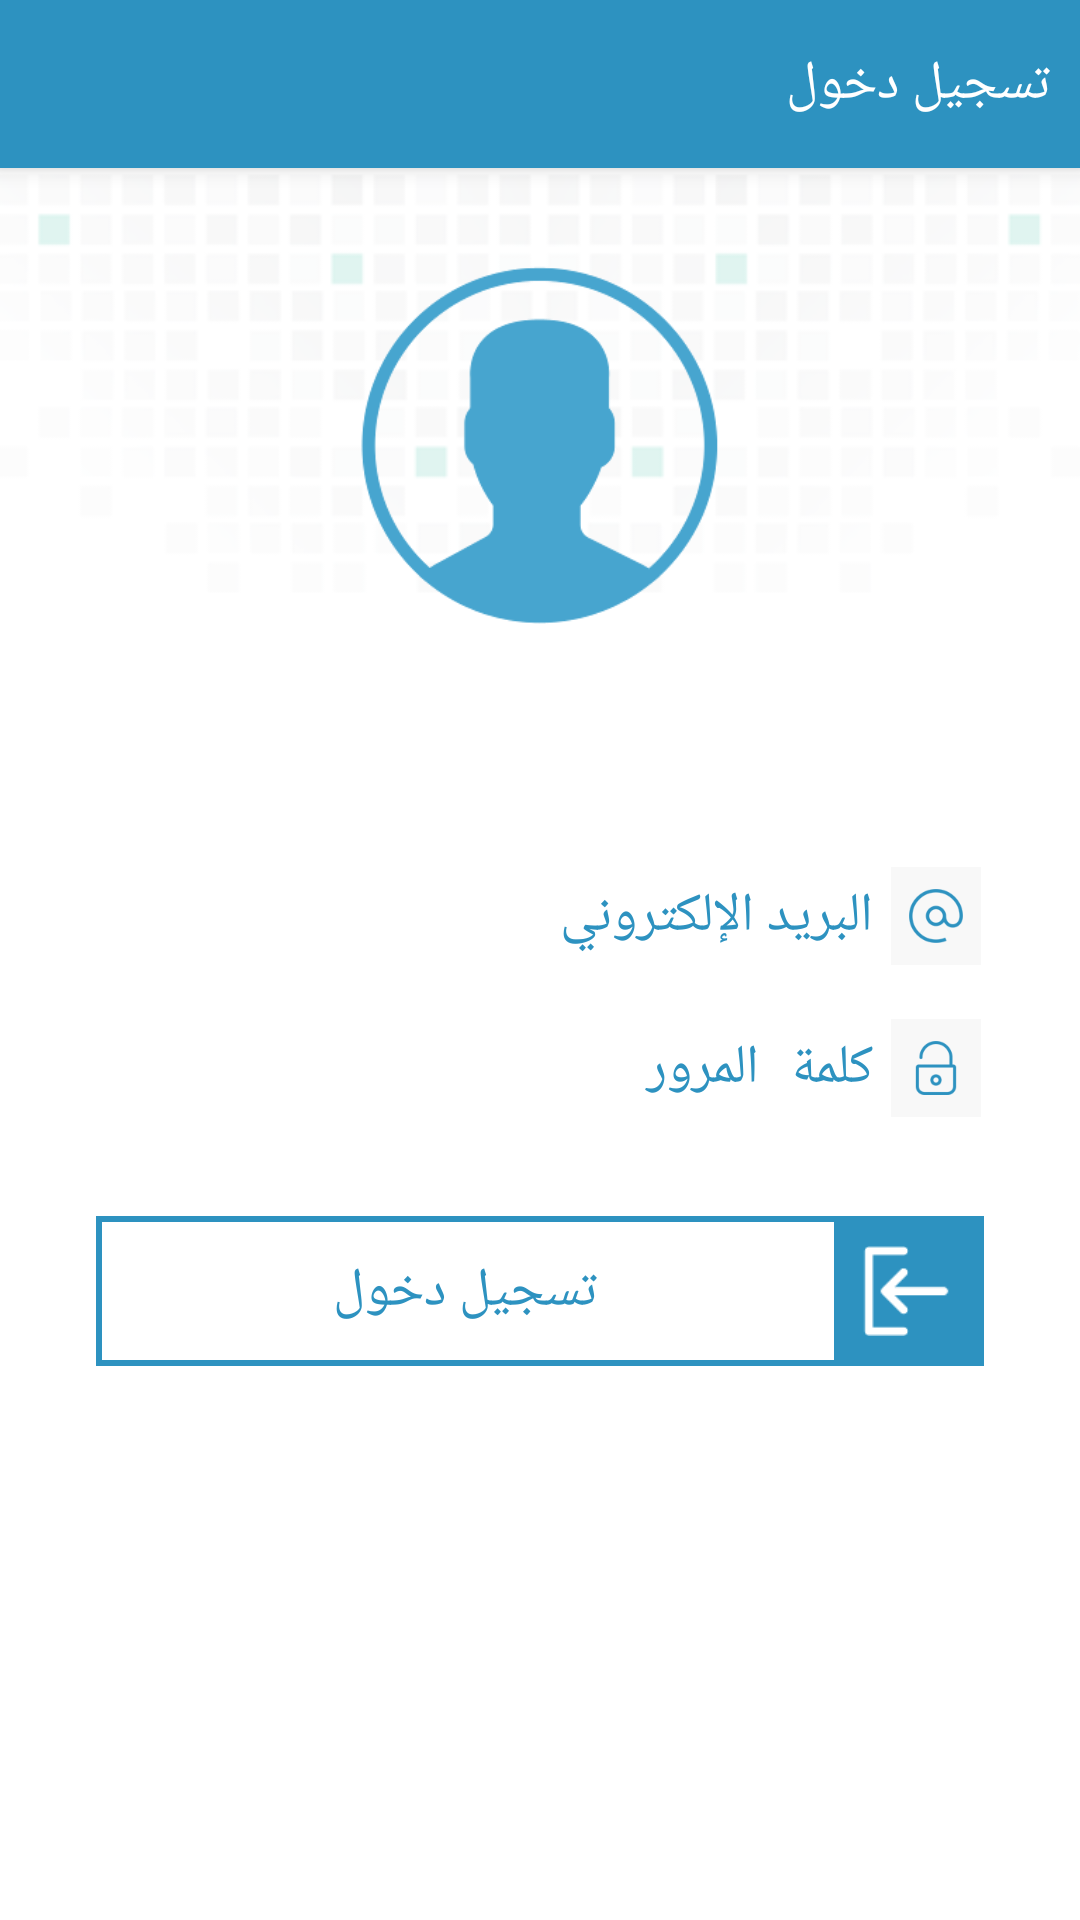

Icon click points for this 1080px x 1920px phone screenshot, format point (x, y):
log: point (906, 1291)
login user: point (539, 445)
mail: point (936, 916)
pass: point (936, 1068)
